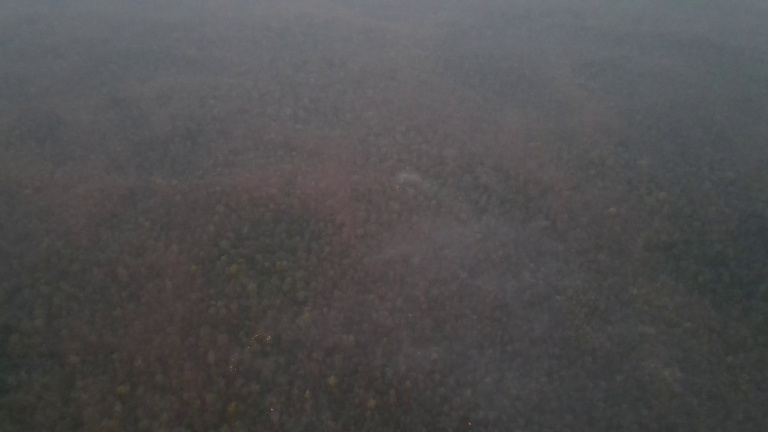fire: (224, 327, 285, 375), (465, 421, 477, 430), (267, 406, 278, 412)
smoke: (386, 165, 427, 195)
